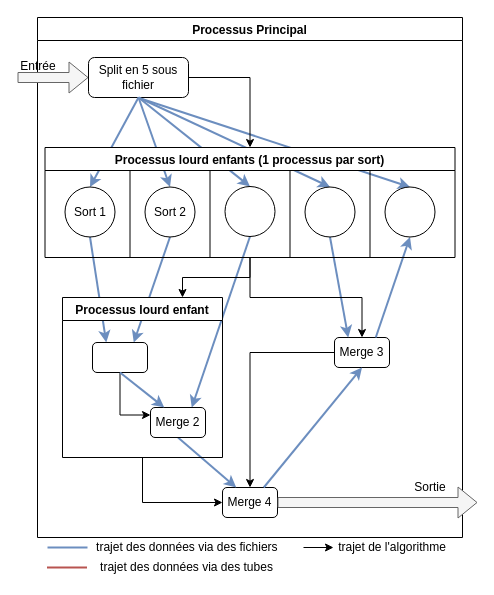
Some shapes in this 494 by 595 pixel diagram are drawn without their labels. The centre of each missing label's shape, as x and y in pixels:
"Merge 1" belongs at point (120, 357).
"Sort 3" belongs at point (249, 211).
"Sort 4" belongs at point (329, 211).
"Sort 5" belongs at point (409, 211).
